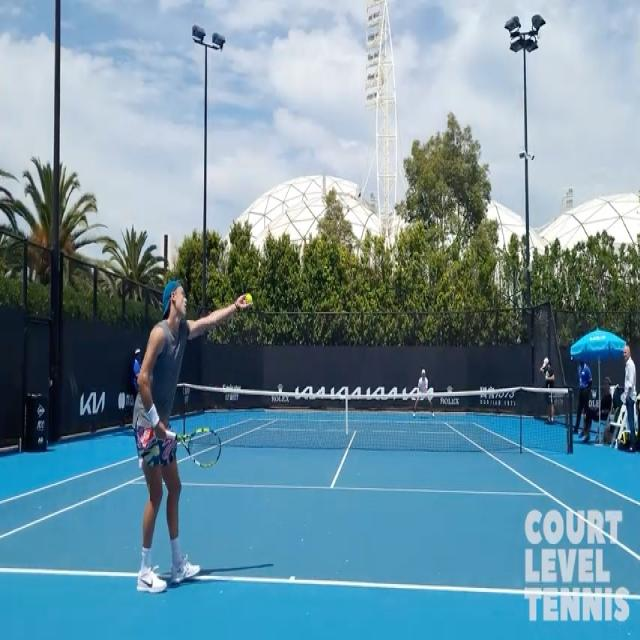serve_toss: (117, 267, 258, 605)
